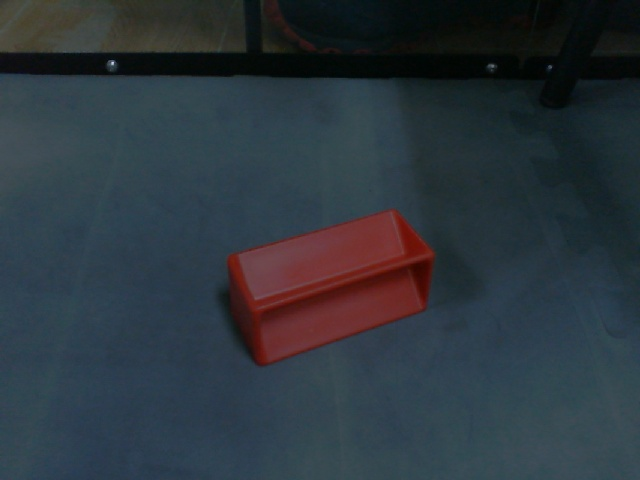RedSample: (222, 206, 438, 368)
